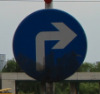right_turn: (12, 8, 87, 82)
